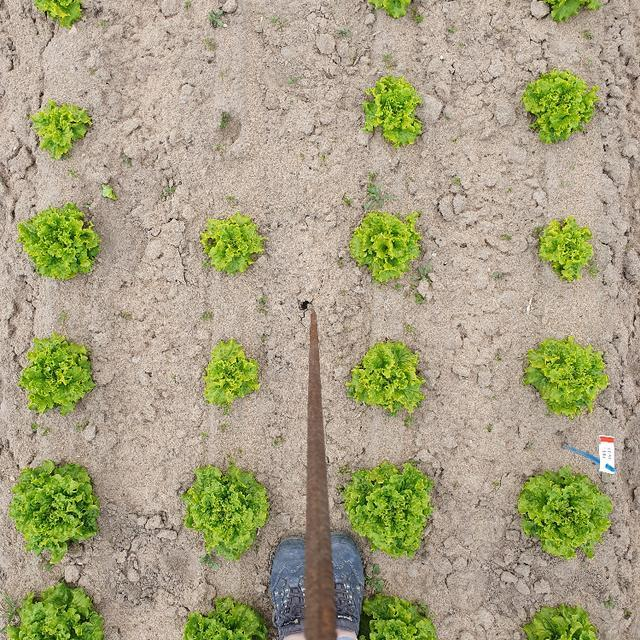Lettuce: (5, 455, 108, 560), (330, 455, 435, 555), (512, 463, 613, 557), (180, 460, 273, 553), (512, 67, 608, 143), (523, 332, 610, 415), (20, 200, 102, 287), (4, 578, 116, 640), (344, 335, 428, 417), (17, 337, 96, 415), (347, 208, 425, 287), (358, 75, 432, 148), (198, 333, 264, 410), (535, 213, 602, 285), (200, 213, 272, 277), (180, 591, 271, 640), (27, 98, 95, 162), (361, 583, 434, 640), (511, 598, 609, 640), (34, 0, 98, 32), (363, 0, 425, 22), (548, 0, 594, 25)
